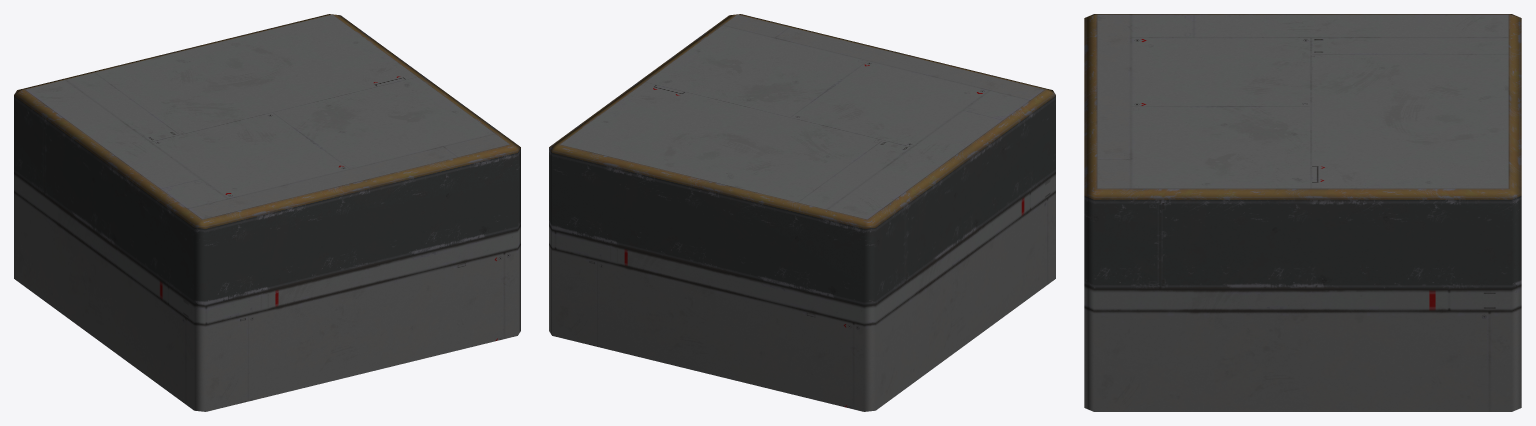
File: Antenna_06_Base_L2.fbx
3 views of the same model, side by side, from view 1: azimuth 30°, elevation 25°; view 2: azimuth 150°, elevation 25°; view 3: azimuth 270°, elevation 25° (orthographic). The views are drawn at different scales.
Visible parts, largest first — view 1: pCube19; view 2: pCube19; view 3: pCube19.
Boxes of the visible parts, <box> form: pCube19: <box>14,14,520,411</box>; pCube19: <box>549,14,1055,411</box>; pCube19: <box>1084,14,1521,411</box>.
Bounding box in the file's own units: 224 × 123 × 224.
